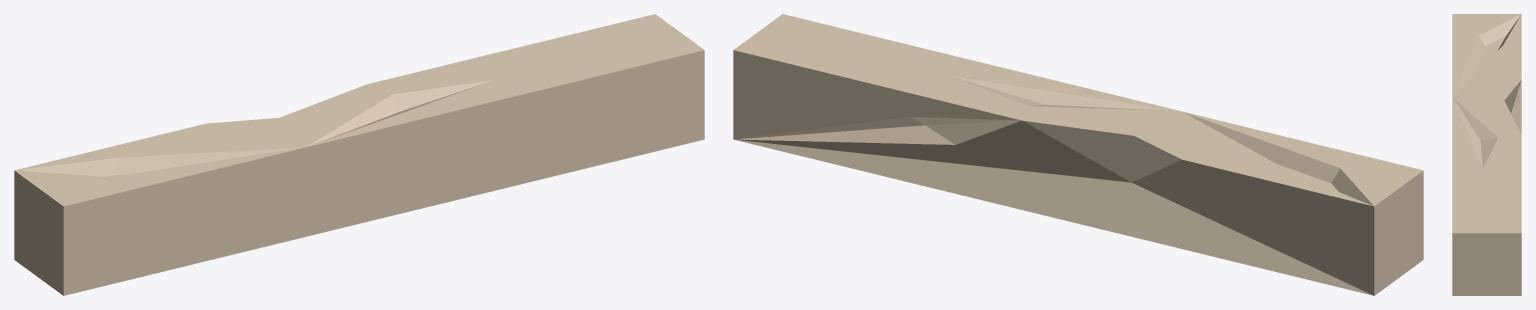
Rendered from Ceiling_Border_003.fbx.
The picture shows the model from 3 angles, left to right: view 1: azimuth 30°, elevation 25°; view 2: azimuth 150°, elevation 25°; view 3: azimuth 270°, elevation 25°; orthographic projection. The views are drawn at different scales.
Parts seen in each view (by area): view 1: Ceiling_Border_003; view 2: Ceiling_Border_003; view 3: Ceiling_Border_003.
Part boxes in pixels (bbox=[...]): Ceiling_Border_003: bbox=[14, 14, 704, 295]; Ceiling_Border_003: bbox=[733, 14, 1423, 295]; Ceiling_Border_003: bbox=[1452, 14, 1521, 295].
Size of the model in its own units: 3 by 0.4 by 0.4.
